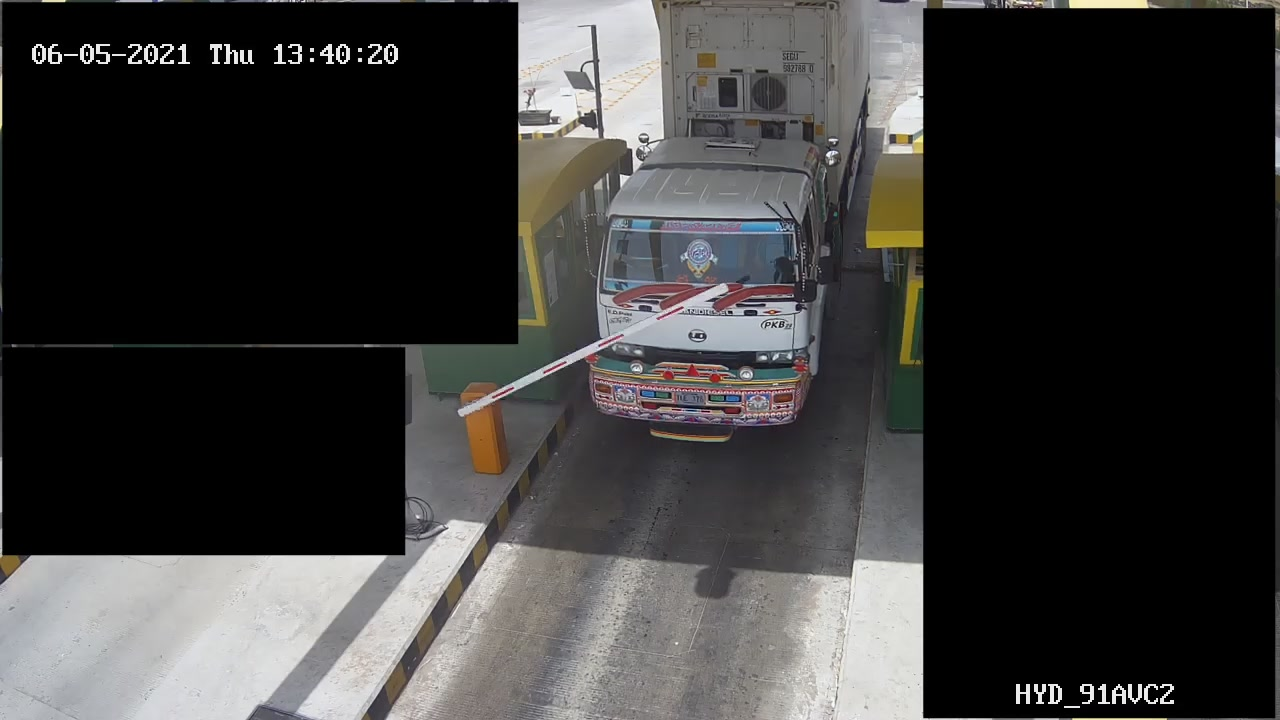F6: (587, 1, 880, 446)
